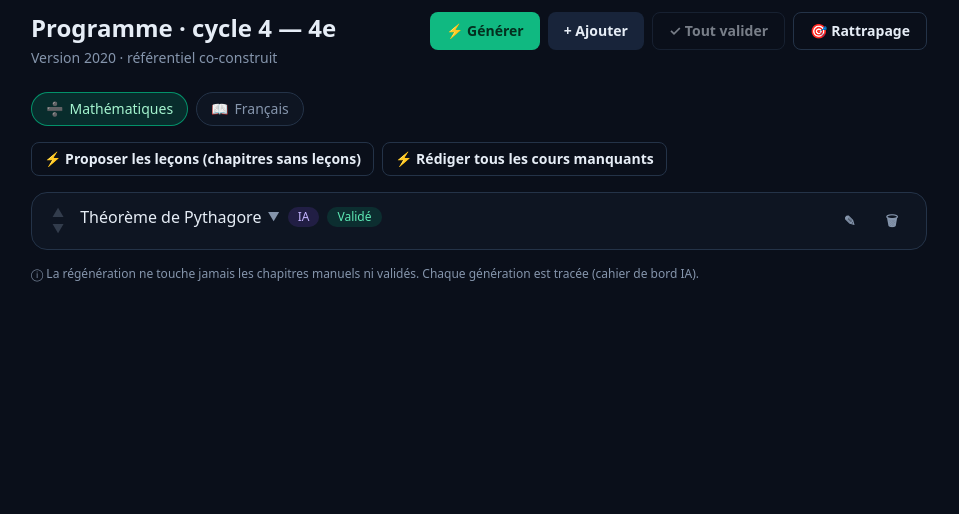
Test: ProgrammePage › chapitre déplié : refermable depuis le BAS du panneau (« Replier le chapitre »)
Click the button "Théorème de Pythagore ▼": (180, 217) [80,205,280,229]
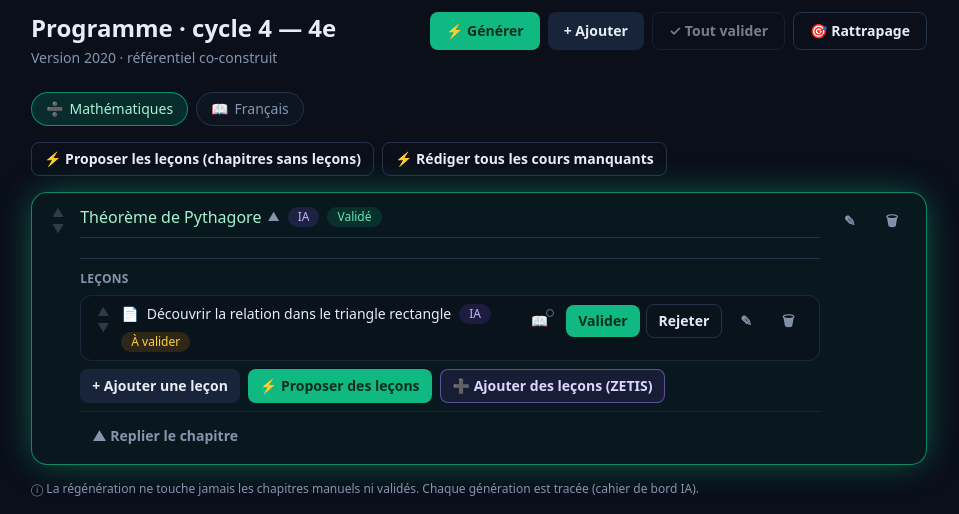
expect the button "+ Ajouter une leçon" is shown: met, box [80,369,240,403]
# Après un long défilement, le titre est hors écran : le pied du panneau replie aussi.
Click the button with aria-label "Replier Théorème de Pythagore": (165, 436) [80,420,250,452]
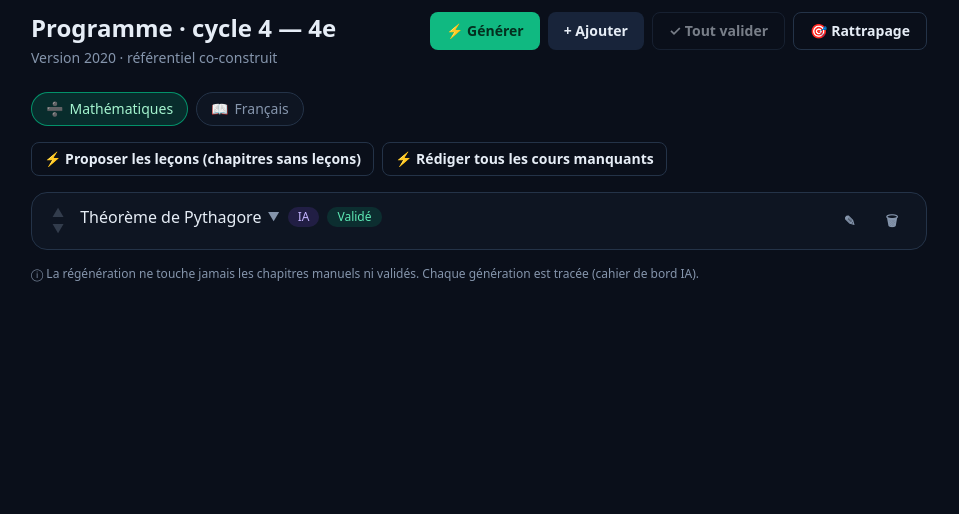
expect the button "+ Ajouter une leçon" is gone: met
expect the button "Théorème de Pythagore ▼" is collapsed: met, box [80,205,280,229]
